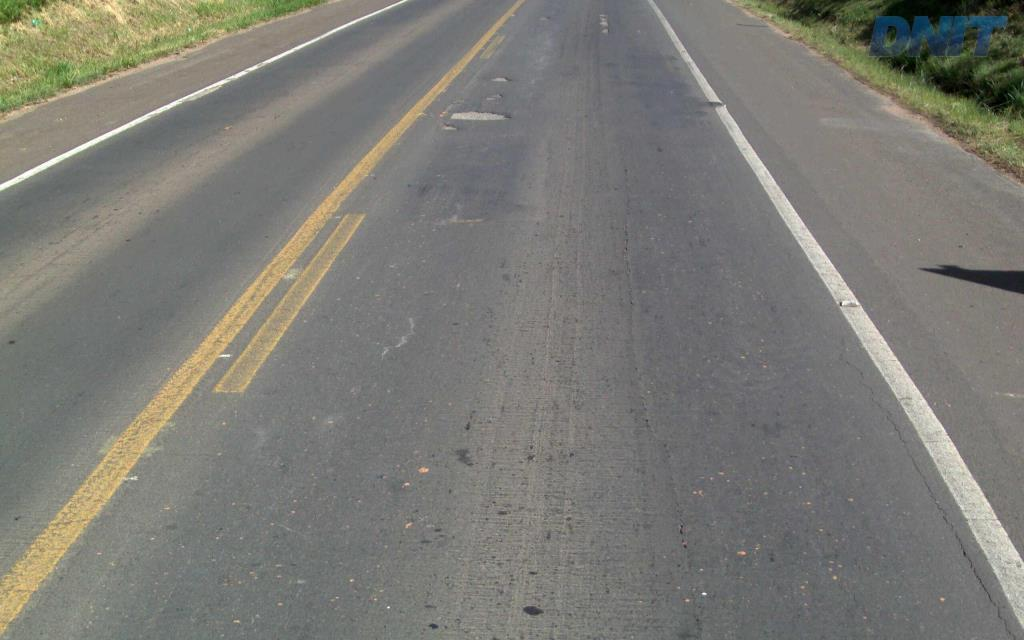pothole: (445, 105, 512, 124), (598, 11, 612, 34), (436, 122, 462, 132), (489, 73, 506, 81)
